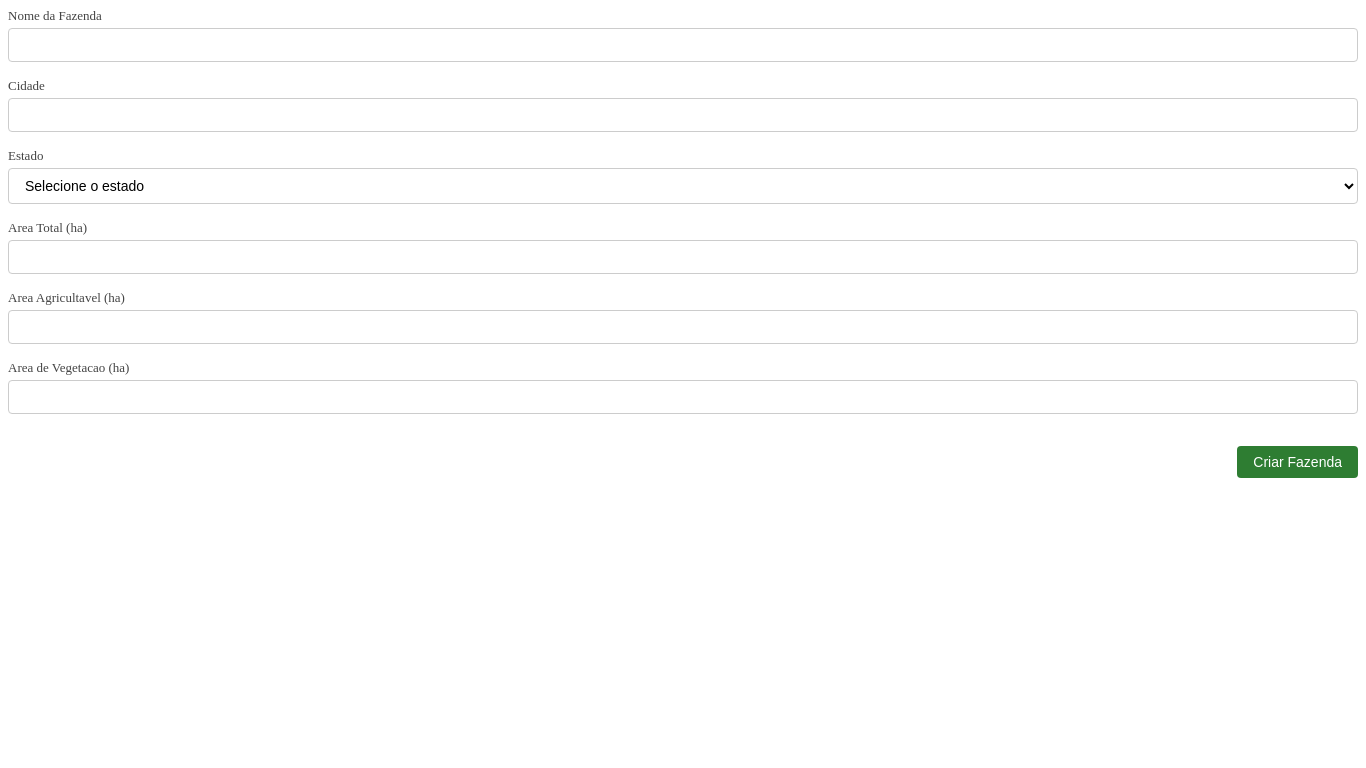
FarmForm › shows area constraint error when arable + vegetation > total
The width and height of the screenshot is (1366, 768).
Step 1. Type "Fazenda Teste" into the field labelled "Nome da Fazenda" → point(683, 45), box [8, 28, 1358, 62]
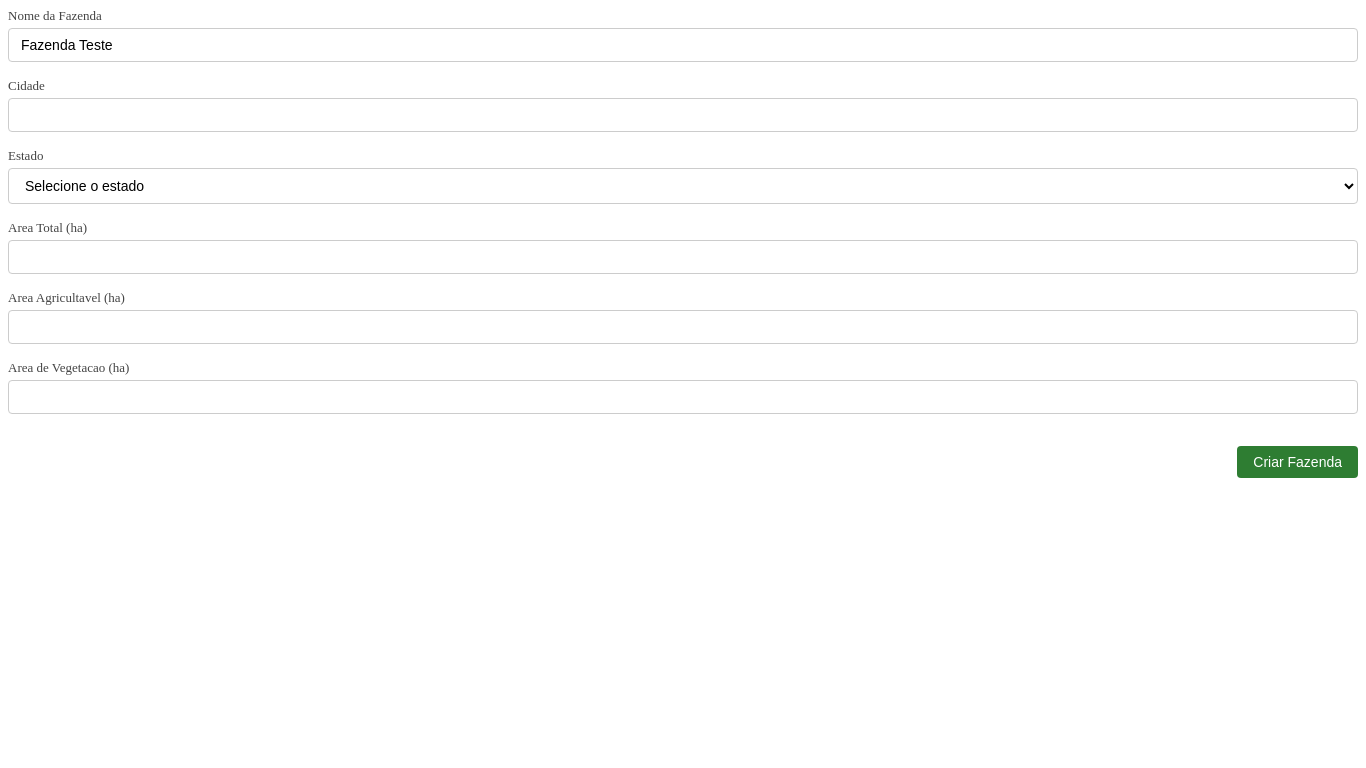
Step 2. Type "Cuiaba" into the field labelled "Cidade" → point(683, 115), box [8, 98, 1358, 132]
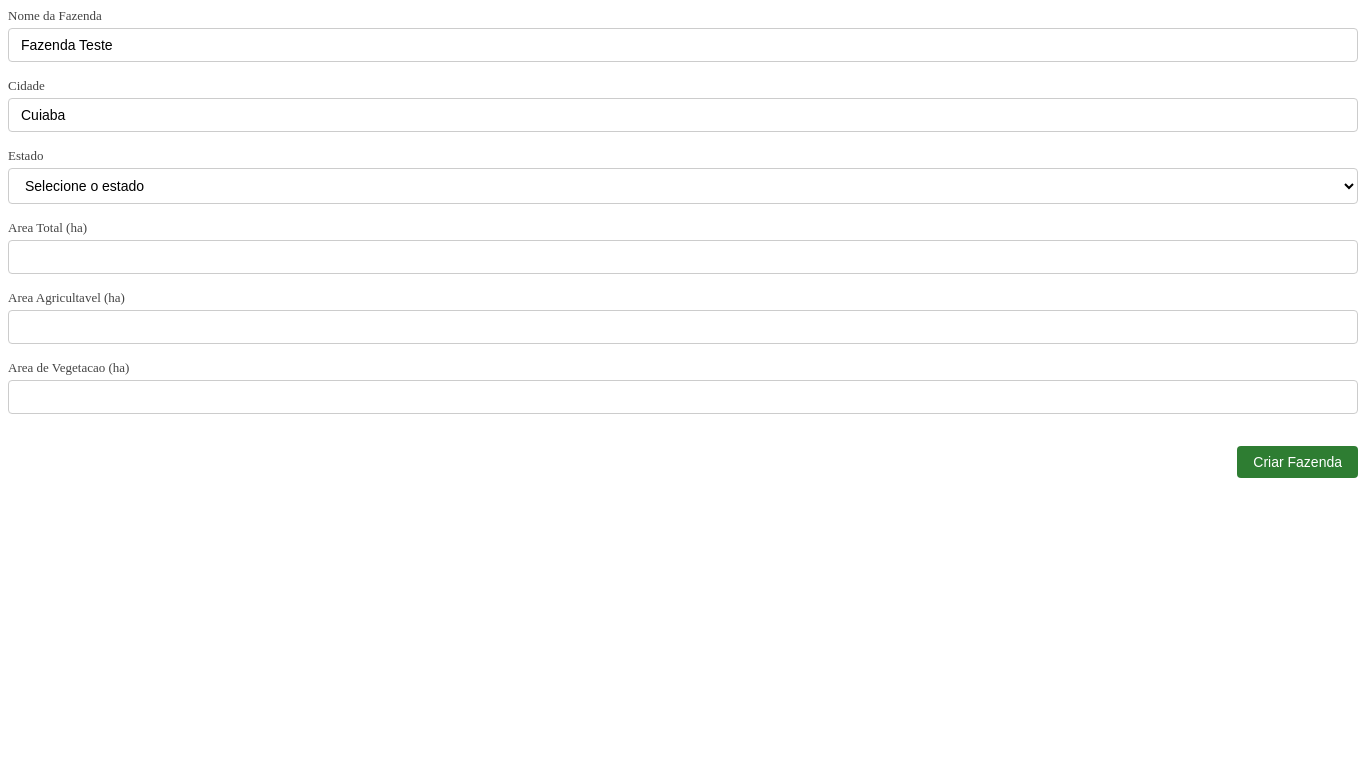
Step 3. Type "500" into the number field labelled "Area Total (ha)" → point(683, 257), box [8, 240, 1358, 274]
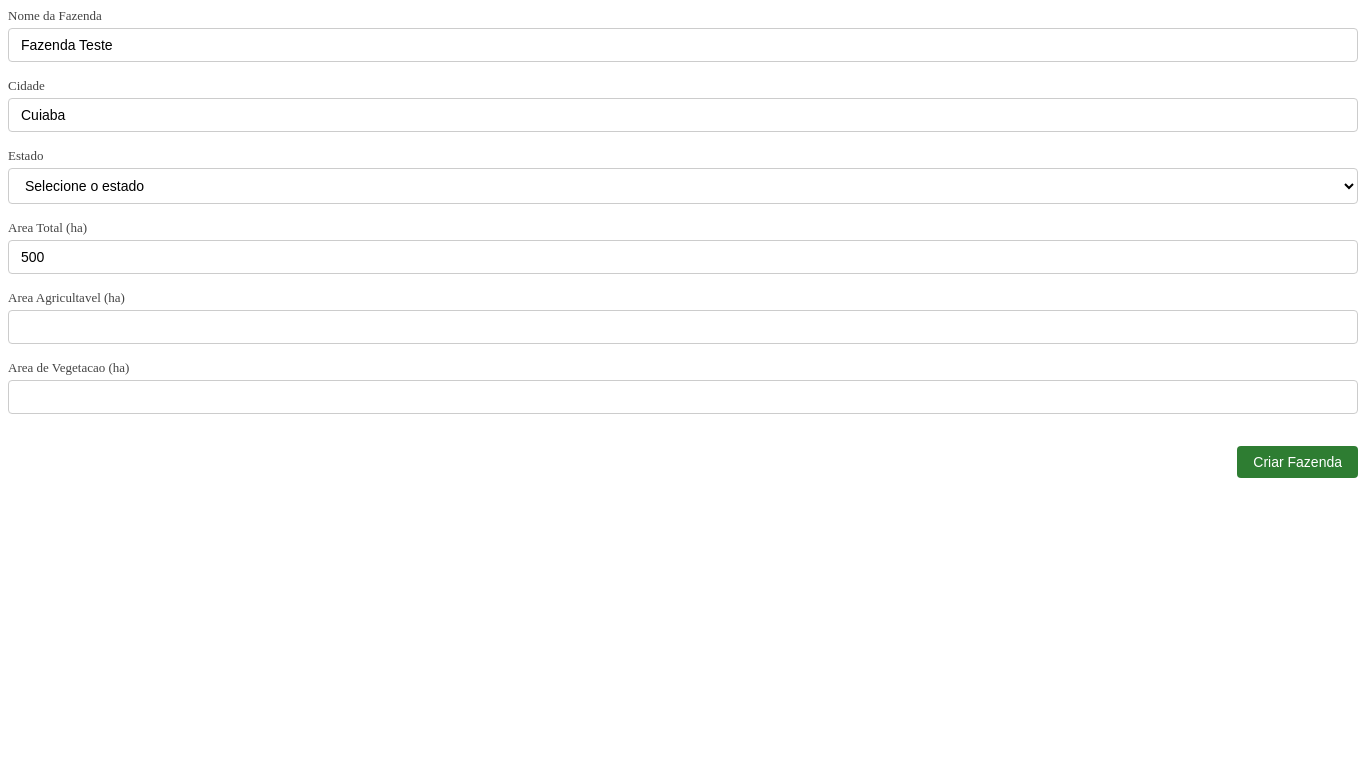
Step 4. Type "400" into the number field labelled "Area Agricultavel (ha)" → point(683, 327), box [8, 310, 1358, 344]
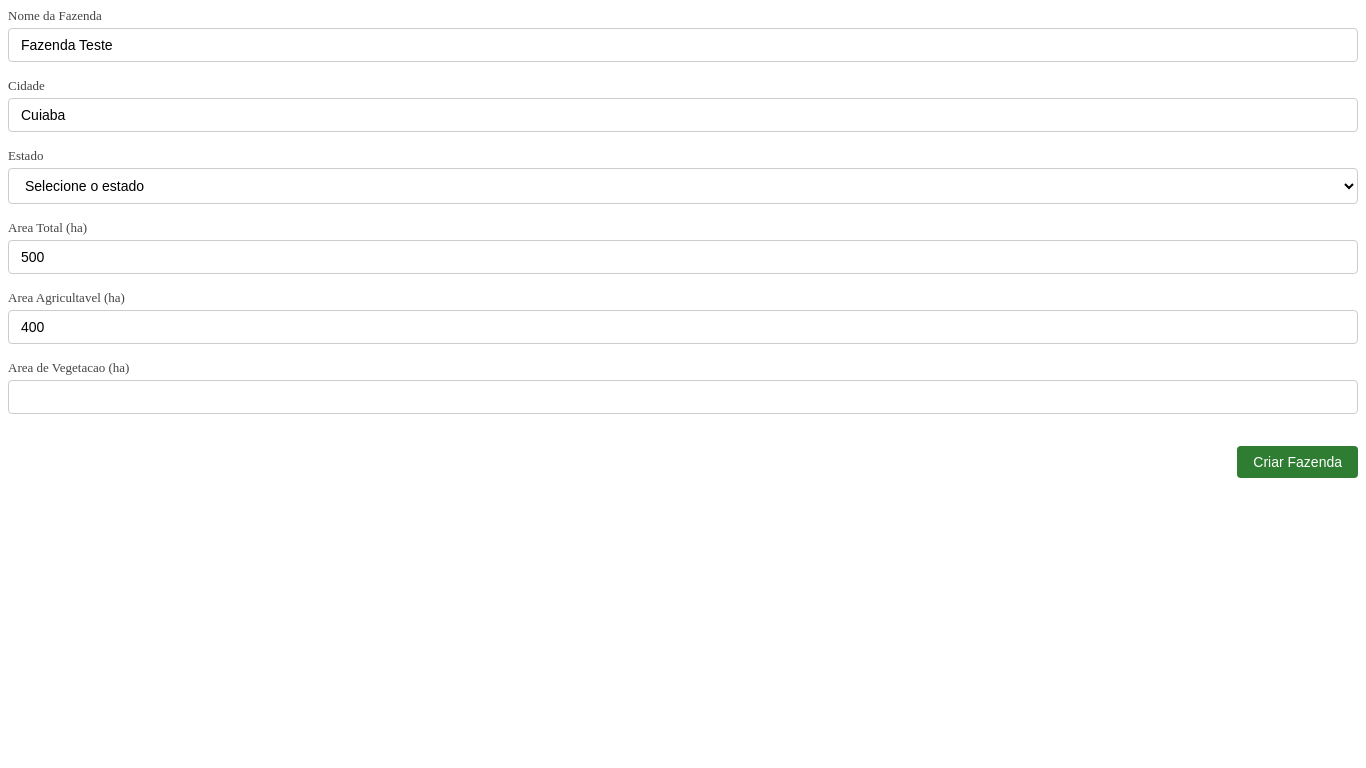
Step 5. Type "200" into the number field labelled "Area de Vegetacao (ha)" → point(683, 397), box [8, 380, 1358, 414]
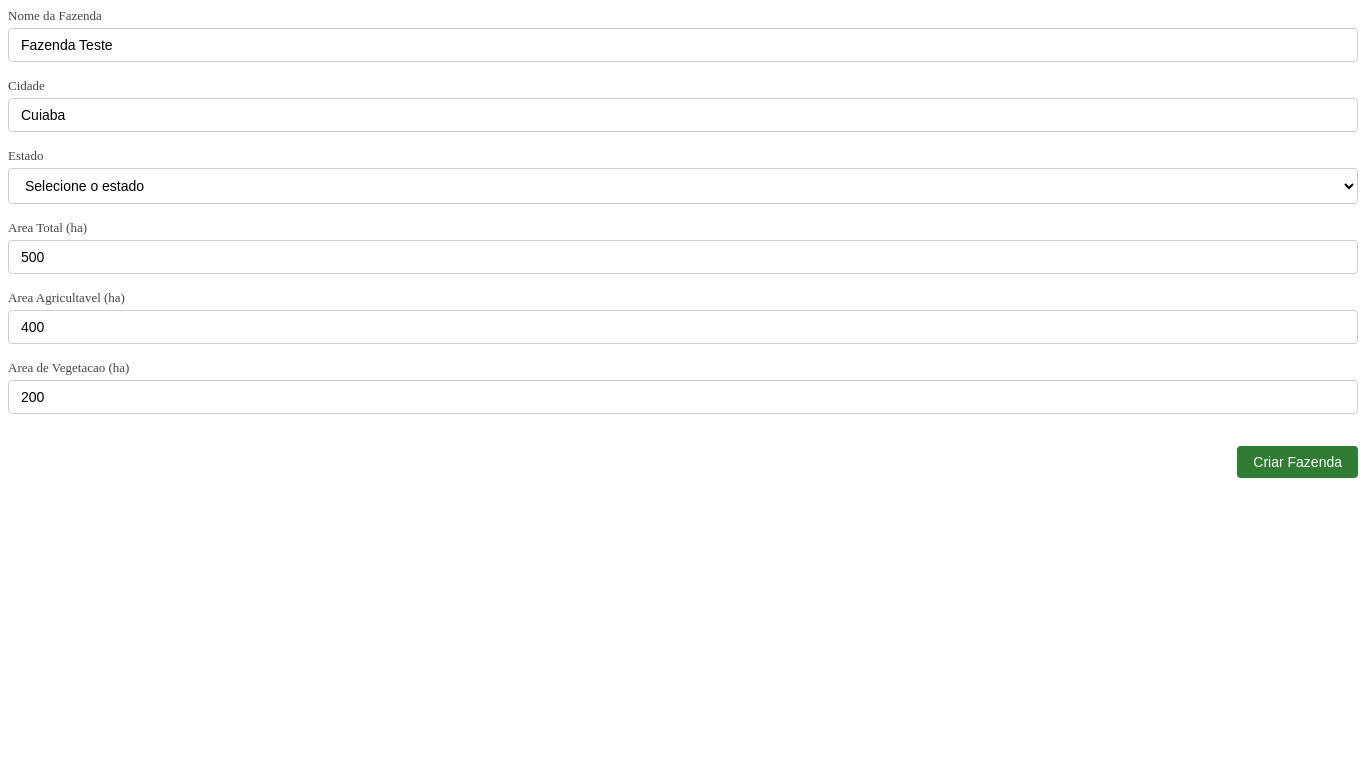
Step 6. Click the button "Criar Fazenda" → point(1298, 462), box [1237, 446, 1358, 478]
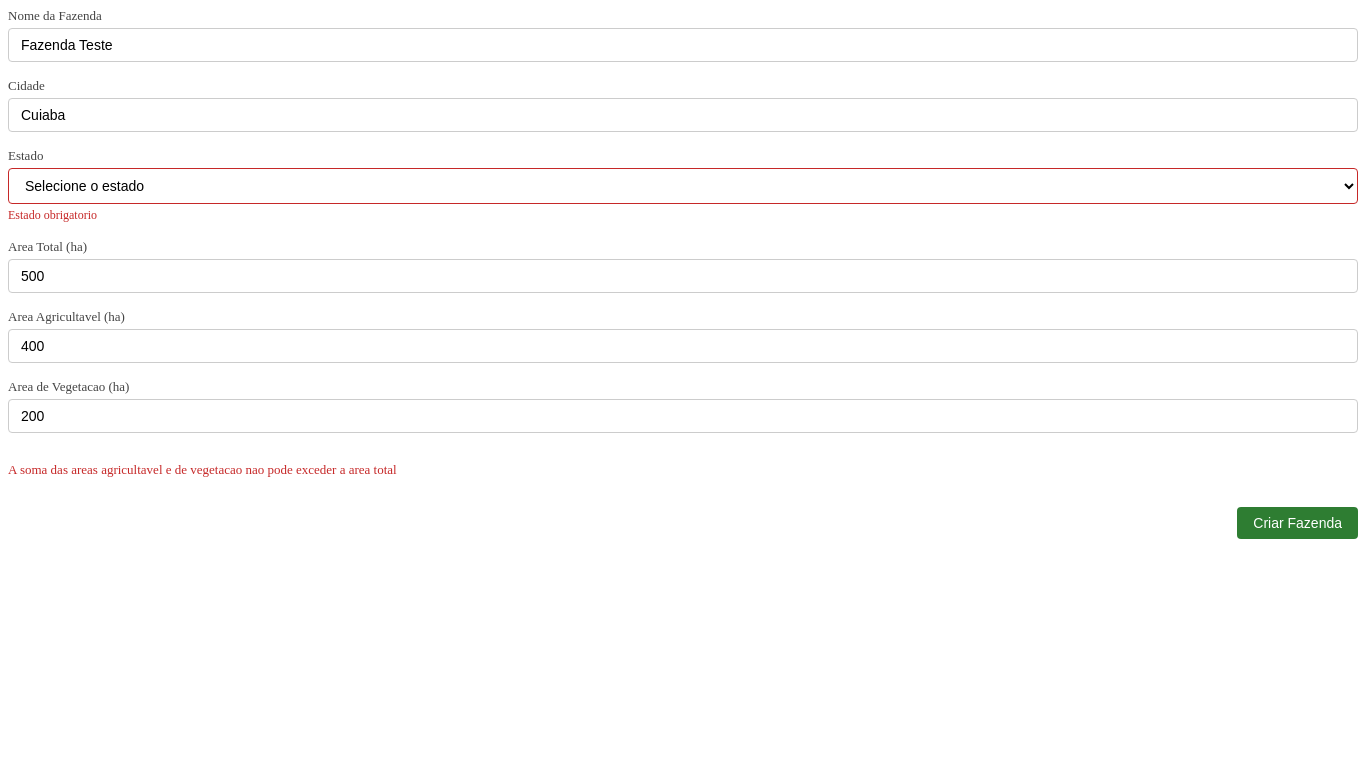
Result: the text "A soma das areas agricultavel e de vegetacao nao pode exceder a area total" is shown at [8, 462, 397, 477]
